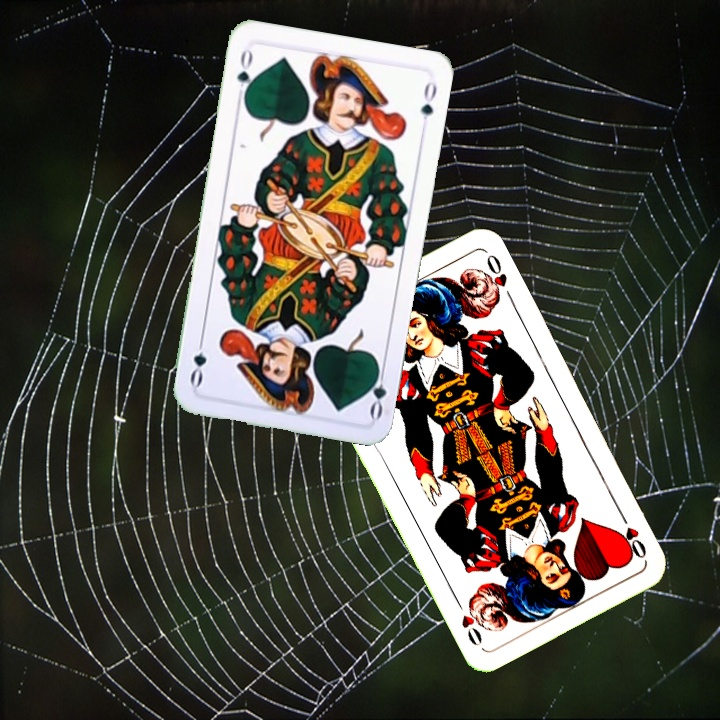GO: (363, 360, 389, 421), (232, 45, 256, 104)
HO: (614, 507, 649, 561)
